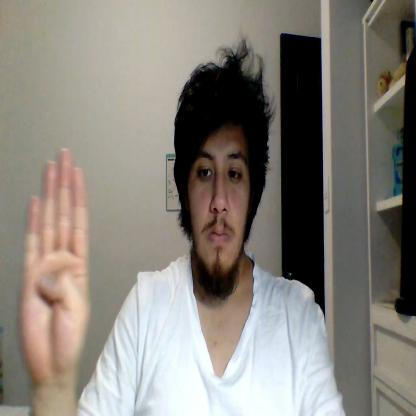B: (16, 146, 90, 380)
